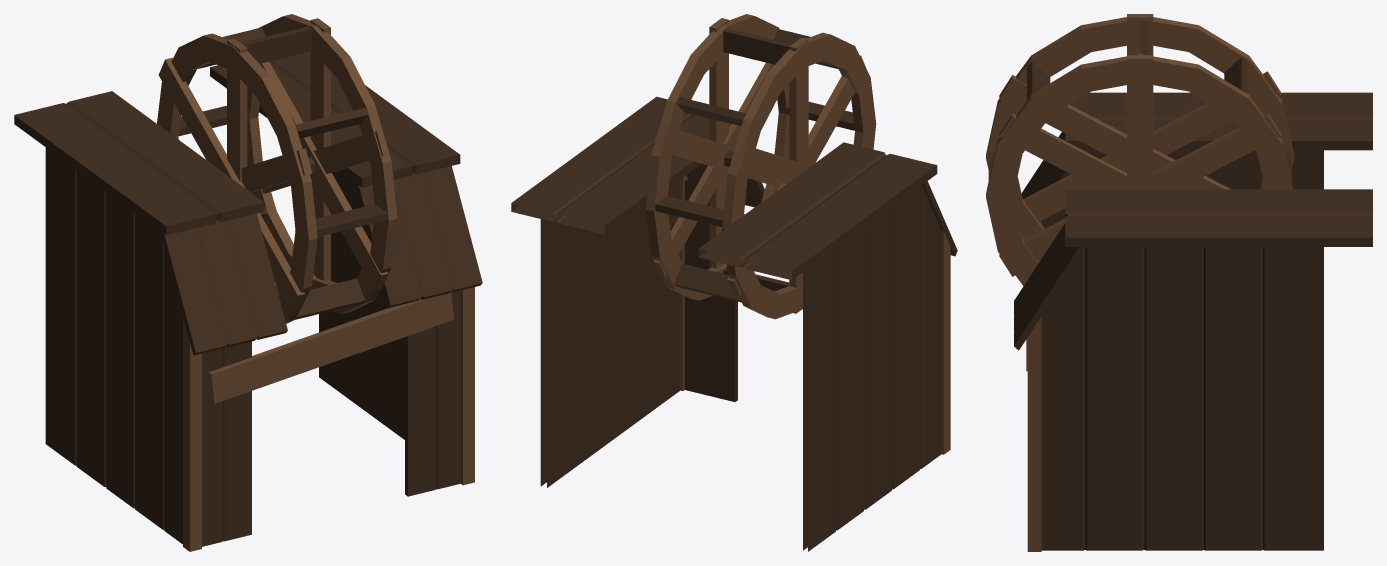
The model's file is mine_entrance_2_mat.fbx.
3 views of the same model, side by side, from view 1: azimuth 30°, elevation 25°; view 2: azimuth 150°, elevation 25°; view 3: azimuth 270°, elevation 25° (orthographic). The views are drawn at different scales.
Parts seen in each view (by area): view 1: mine_entrance_2_mat; view 2: mine_entrance_2_mat; view 3: mine_entrance_2_mat.
Part boxes in pixels (left/top/right/bottom): mine_entrance_2_mat: left=14, top=14, right=482, bottom=551; mine_entrance_2_mat: left=511, top=14, right=957, bottom=551; mine_entrance_2_mat: left=986, top=14, right=1372, bottom=551.
Bounding box in the file's own units: 219 × 314 × 247.
